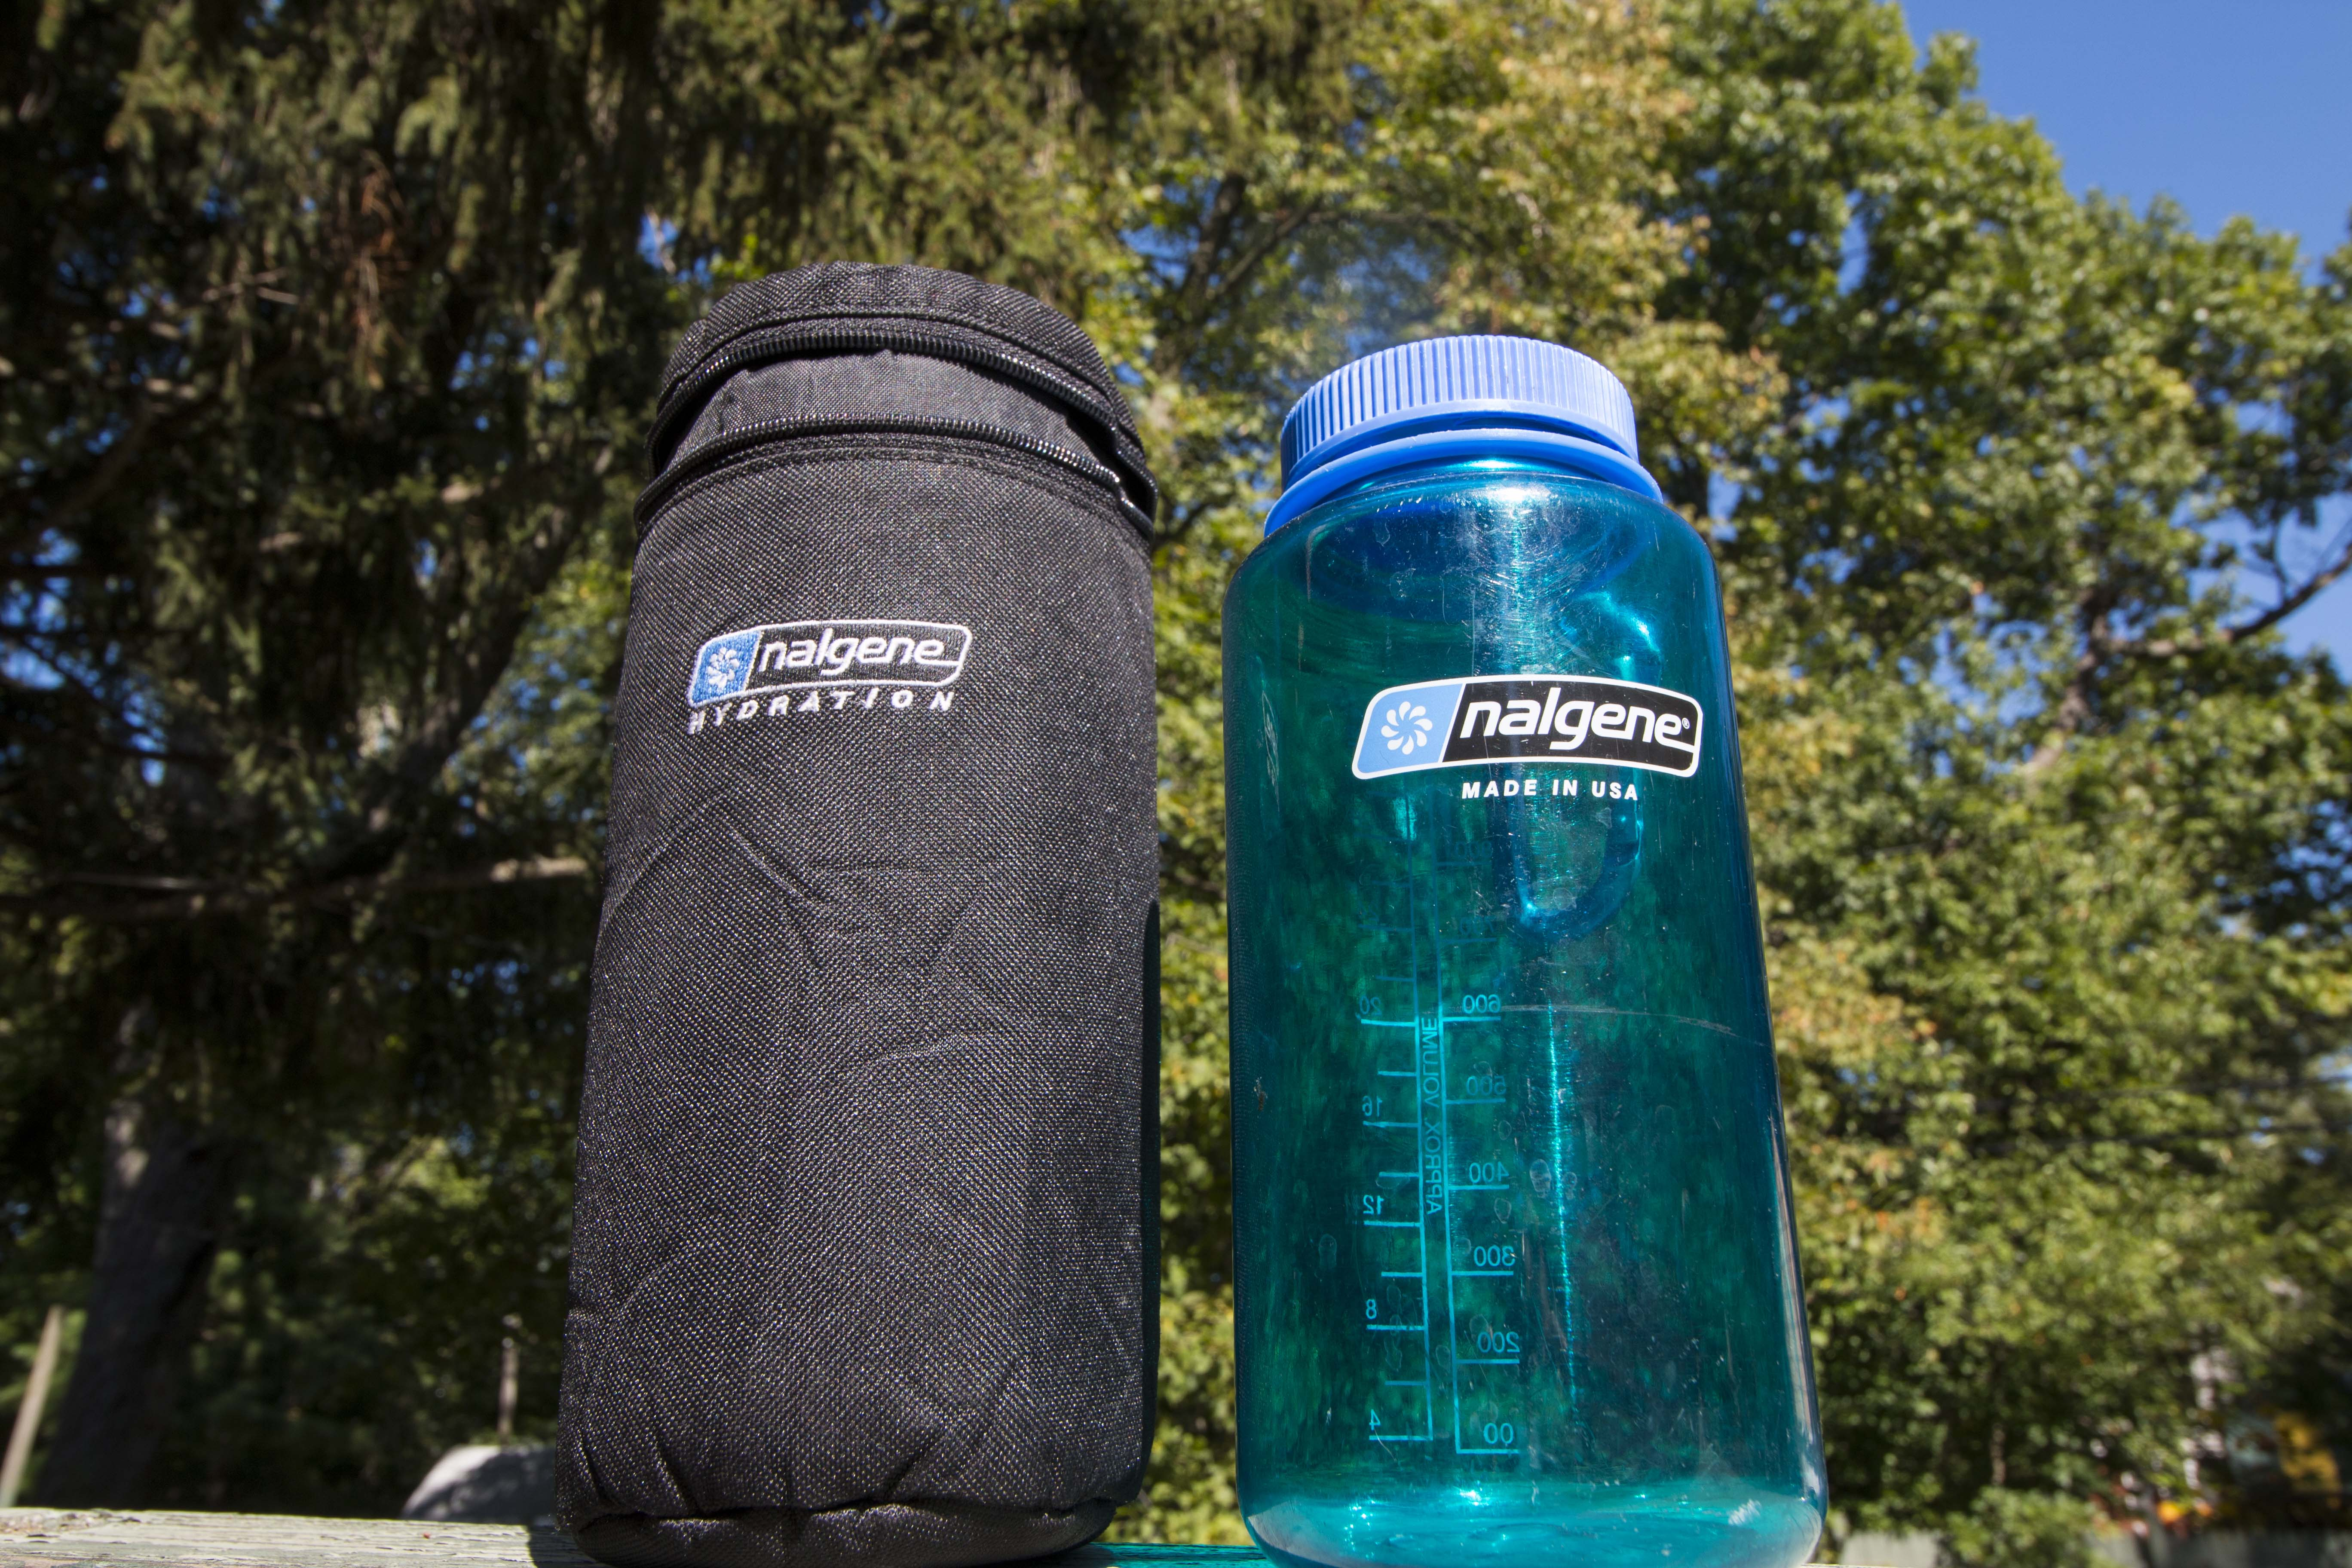Rec_Plastic: (1207, 303, 1844, 1549)
